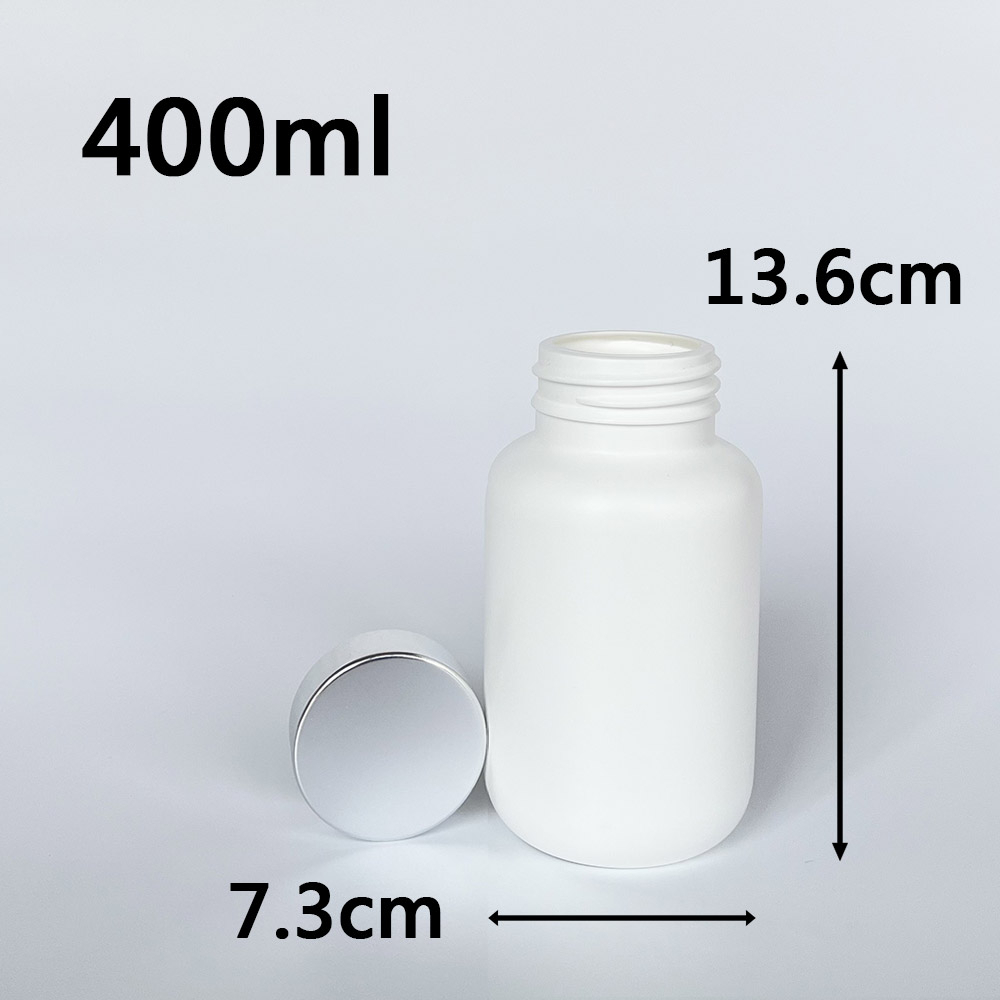medicinejar: (484, 325, 772, 870)
